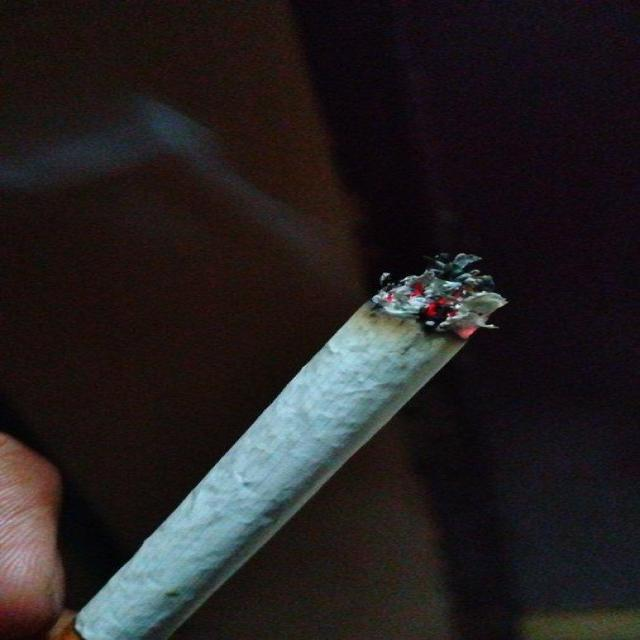rokok: (44, 249, 512, 639)
